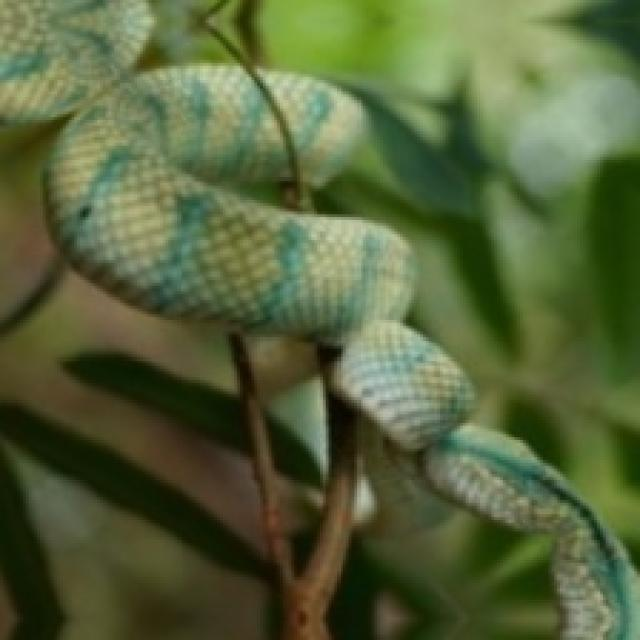north ph temple pitviper: (0, 1, 639, 640)
